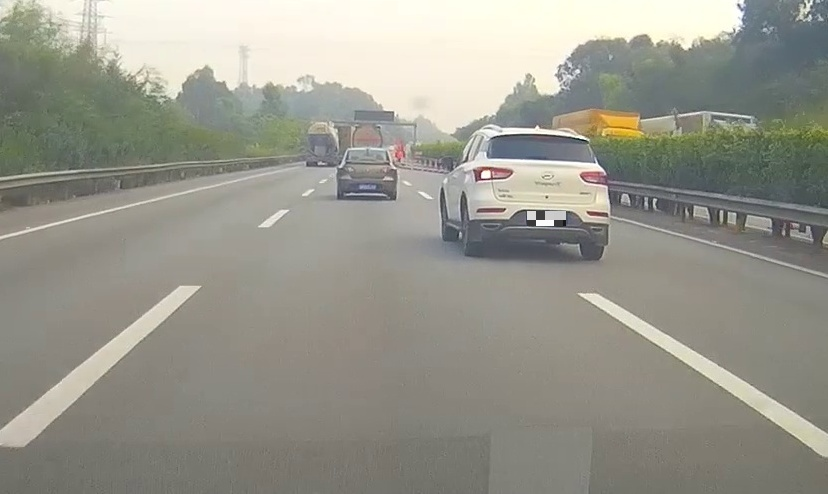L_light: (473, 166, 513, 182), (341, 166, 354, 173)
R_light: (580, 171, 608, 185), (381, 167, 396, 174)
T_light: (532, 134, 554, 138), (360, 150, 371, 153)
day-left: (472, 128, 610, 260)
day-no: (336, 148, 397, 200)
plate_1: (527, 211, 566, 226)
